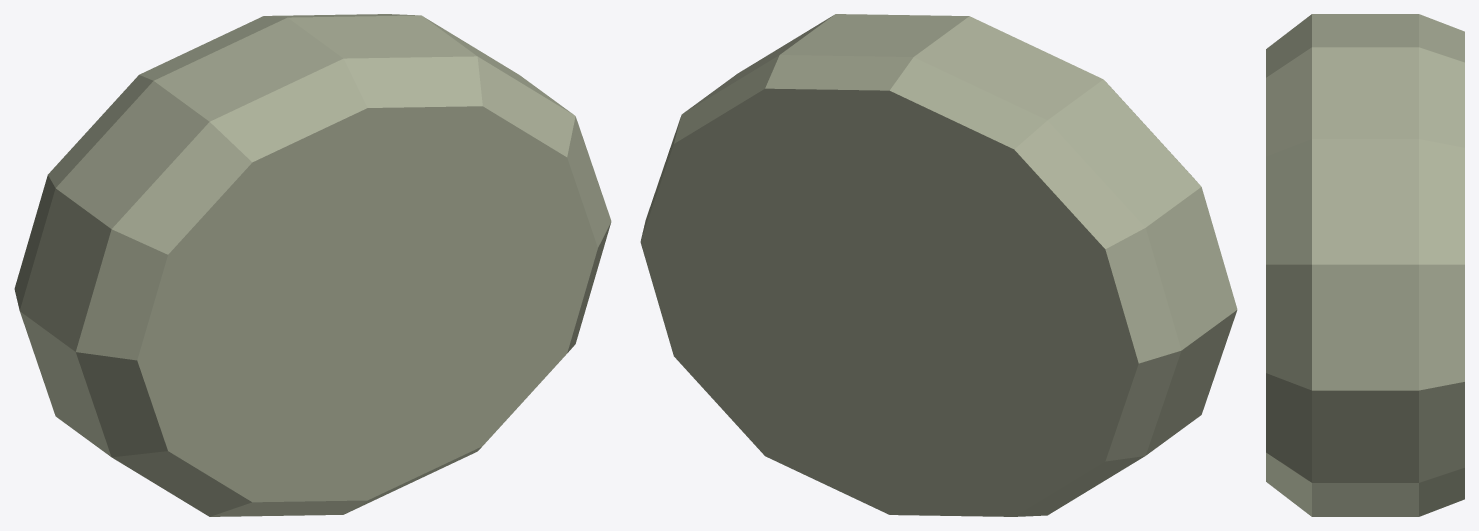
The model's file is centipede_segment_5.obj.
3 renders of one model, left to right at view 1: azimuth 30°, elevation 25°; view 2: azimuth 150°, elevation 25°; view 3: azimuth 270°, elevation 25°, orthographic. The views are drawn at different scales.
Parts seen in each view (by area): view 1: centipede_segment_5; view 2: centipede_segment_5; view 3: centipede_segment_5.
Boxes of the visible parts, x1,y1,x2,y2 form: centipede_segment_5: (14,14,611,516); centipede_segment_5: (640,14,1237,516); centipede_segment_5: (1266,14,1464,516).
Bounding box in the file's own units: 1.16 × 0.944 × 0.39.
